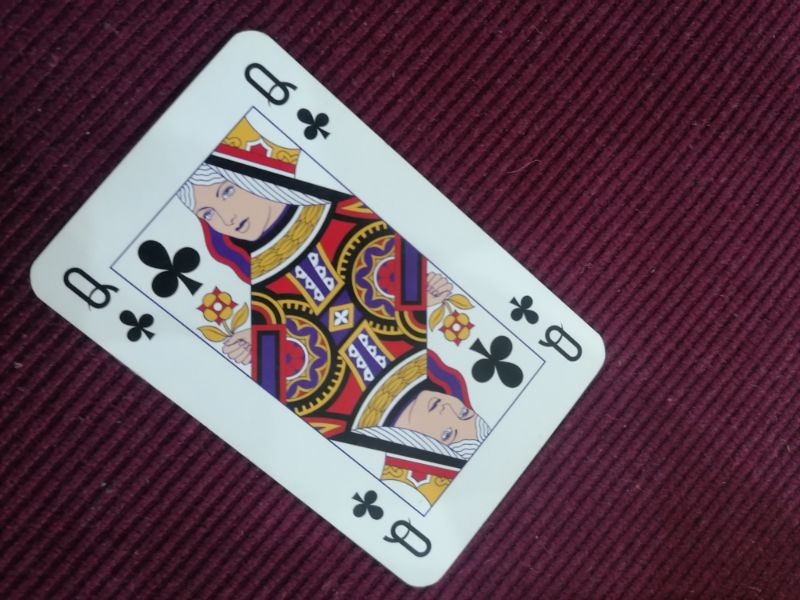Qc: (61, 264, 160, 347), (240, 58, 333, 141), (350, 487, 437, 559), (506, 293, 587, 364)
